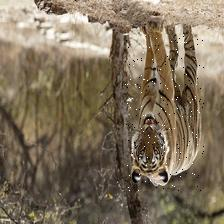tiger: (124, 34, 203, 191)
